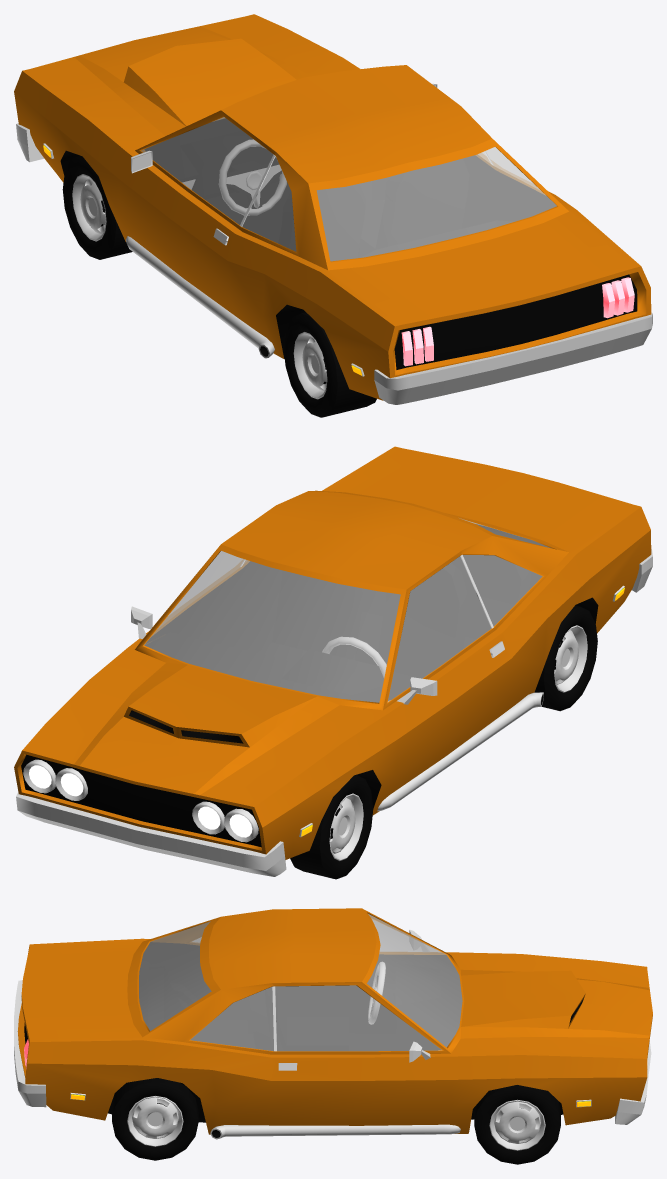
The model's file is muscle-car.glb.
3 views of the same model, one above another, from view 1: azimuth 30°, elevation 25°; view 2: azimuth 150°, elevation 25°; view 3: azimuth 270°, elevation 25° (orthographic). The views are drawn at different scales.
Parts seen in each view (by area): view 1: body, wheel-rear-left, wheel-front-left; view 2: body, wheel-front-left, wheel-rear-left; view 3: body, wheel-rear-right, wheel-front-right.
Part boxes in pixels (bbox=[...]): body: bbox=[14, 14, 652, 404]; wheel-rear-left: bbox=[283, 312, 376, 417]; wheel-front-left: bbox=[62, 155, 132, 259]; body: bbox=[14, 446, 652, 876]; wheel-front-left: bbox=[290, 775, 373, 879]; wheel-rear-left: bbox=[534, 605, 597, 711]; body: bbox=[14, 908, 652, 1139]; wheel-rear-right: bbox=[112, 1078, 198, 1160]; wheel-front-right: bbox=[474, 1085, 560, 1164].
Bounding box in the file's own units: 2.11 × 1.39 × 4.7.
